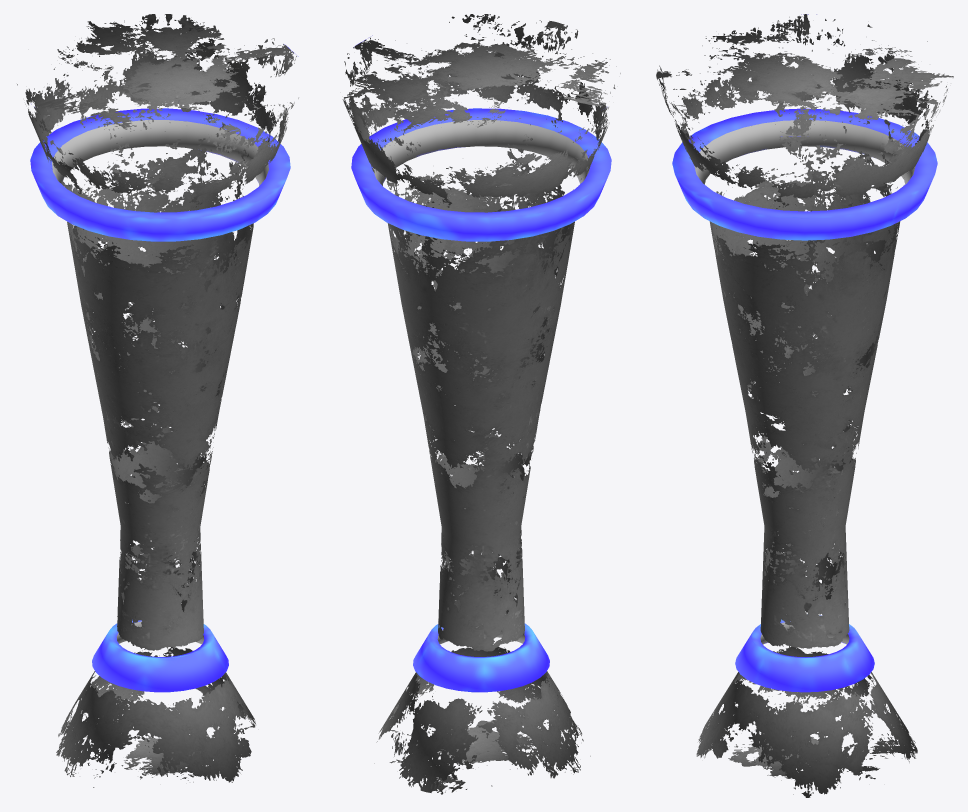
The model's file is support.fbx.
3 renders of one model, left to right at view 1: azimuth 30°, elevation 25°; view 2: azimuth 150°, elevation 25°; view 3: azimuth 270°, elevation 25°, orthographic.
Parts seen in each view (by area): view 1: Цилиндр; view 2: Цилиндр; view 3: Цилиндр.
Part boxes in pixels (<box>): Цилиндр: <box>17,14,298,787</box>; Цилиндр: <box>342,14,620,794</box>; Цилиндр: <box>656,14,953,797</box>.
Bounding box in the file's own units: 78.17 × 200 × 79.87.
1 material, 1 textured.
